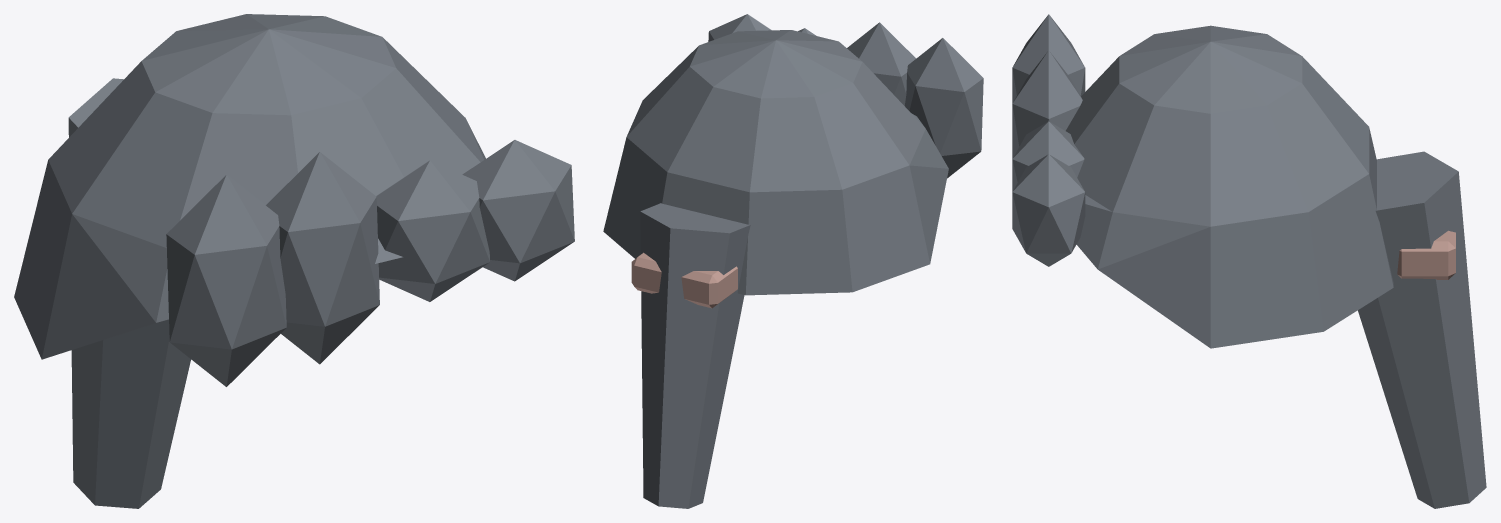
The model's file is SM_NPC_Hair_03_Ponytail.glb.
3 views of the same model, side by side, from view 1: azimuth 30°, elevation 25°; view 2: azimuth 150°, elevation 25°; view 3: azimuth 270°, elevation 25° (orthographic). The views are drawn at different scales.
Parts seen in each view (by area): view 1: SM_NPC_Hair_03_Ponytail; view 2: SM_NPC_Hair_03_Ponytail; view 3: SM_NPC_Hair_03_Ponytail.
Boxes of the visible parts, left/top/right/bottom form: SM_NPC_Hair_03_Ponytail: left=14, top=14, right=574, bottom=508; SM_NPC_Hair_03_Ponytail: left=603, top=14, right=983, bottom=508; SM_NPC_Hair_03_Ponytail: left=1012, top=14, right=1486, bottom=508.
Bounding box in the file's own units: 0.536 × 0.648 × 0.6091.
